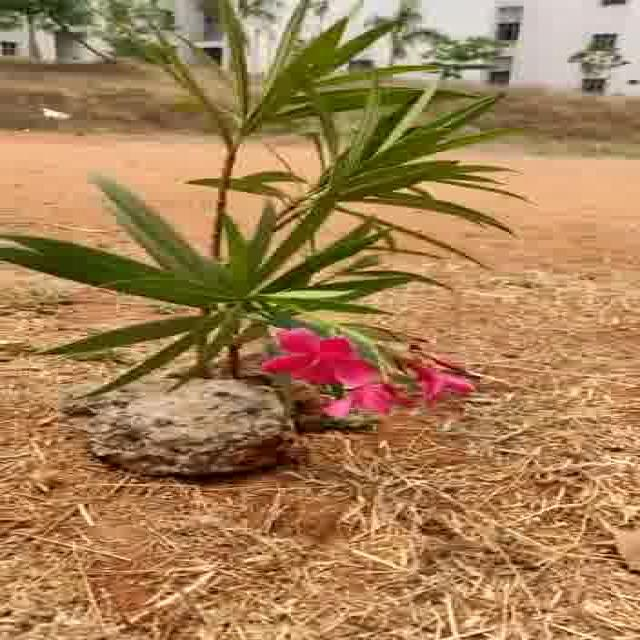OLEANDER: (41, 25, 488, 395)
